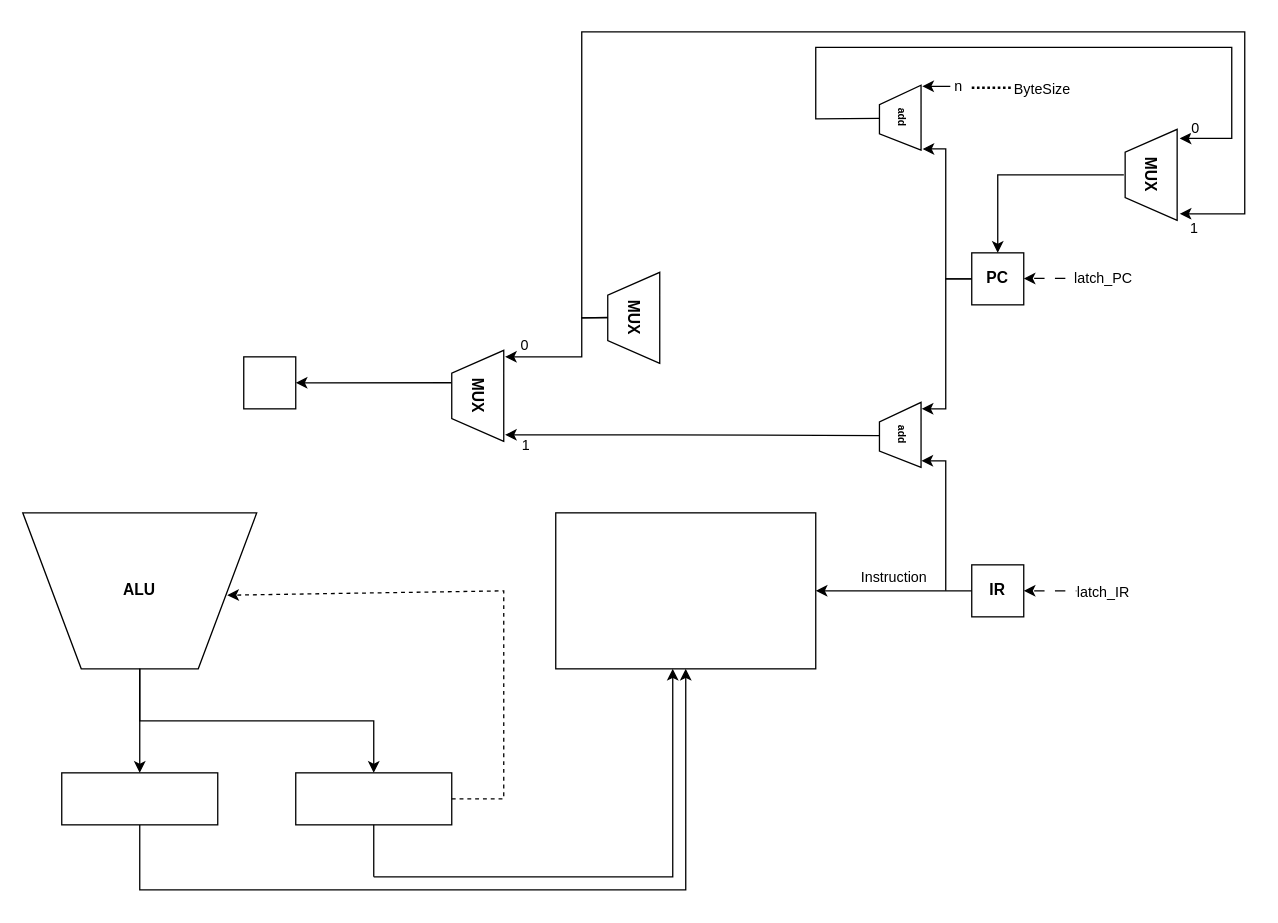
Image size: 1278x923. Some labels were removed from this diagram. Here are the shapes that lost their labels. From the top down, the centre of each, then its label:
[269,382]: AR
[685,590]: Control Unit
[139,798]: NZVC
[373,798]: ACC
